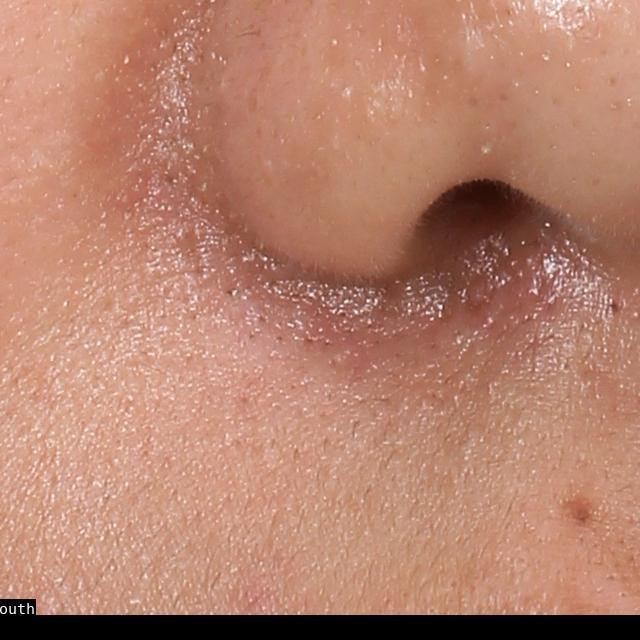nevus: (561, 491, 599, 527)
